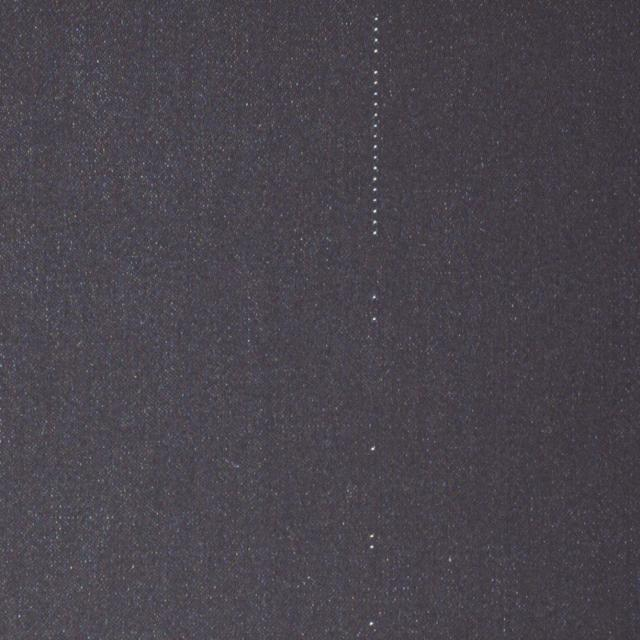Warp_Weft: (366, 13, 381, 640)
